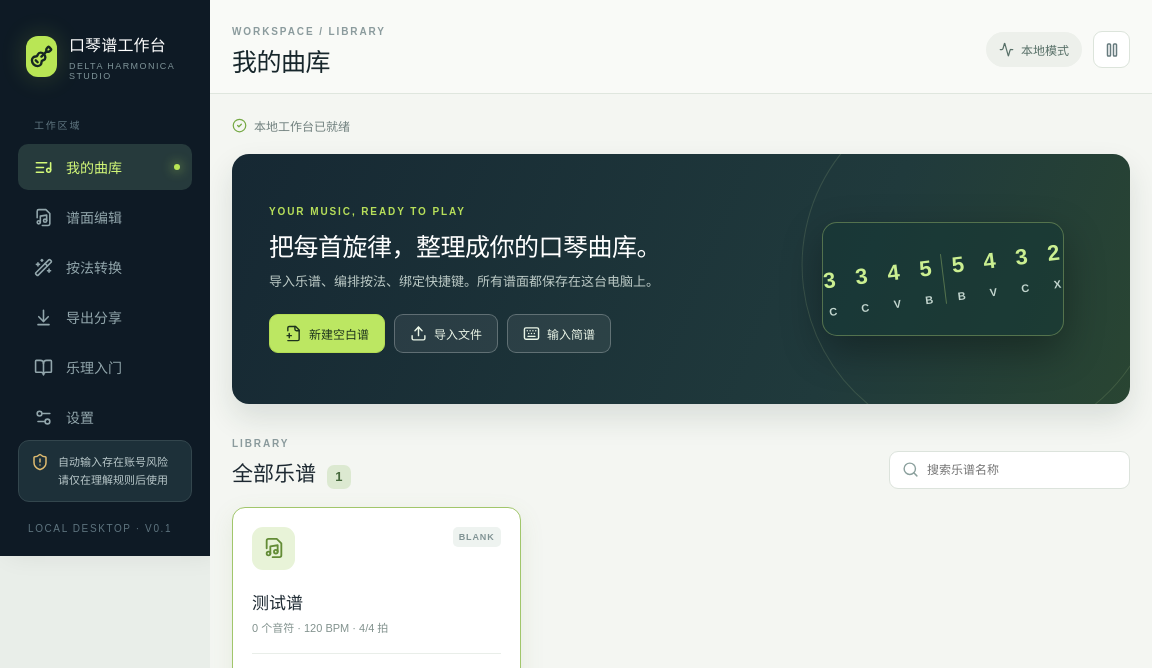
Test: manual score saving › retains edits made while an earlier save is still completing
The width and height of the screenshot is (1152, 668).
Click the button "谱面编辑": (105, 217) [18,194,192,240]
(page scrolled)
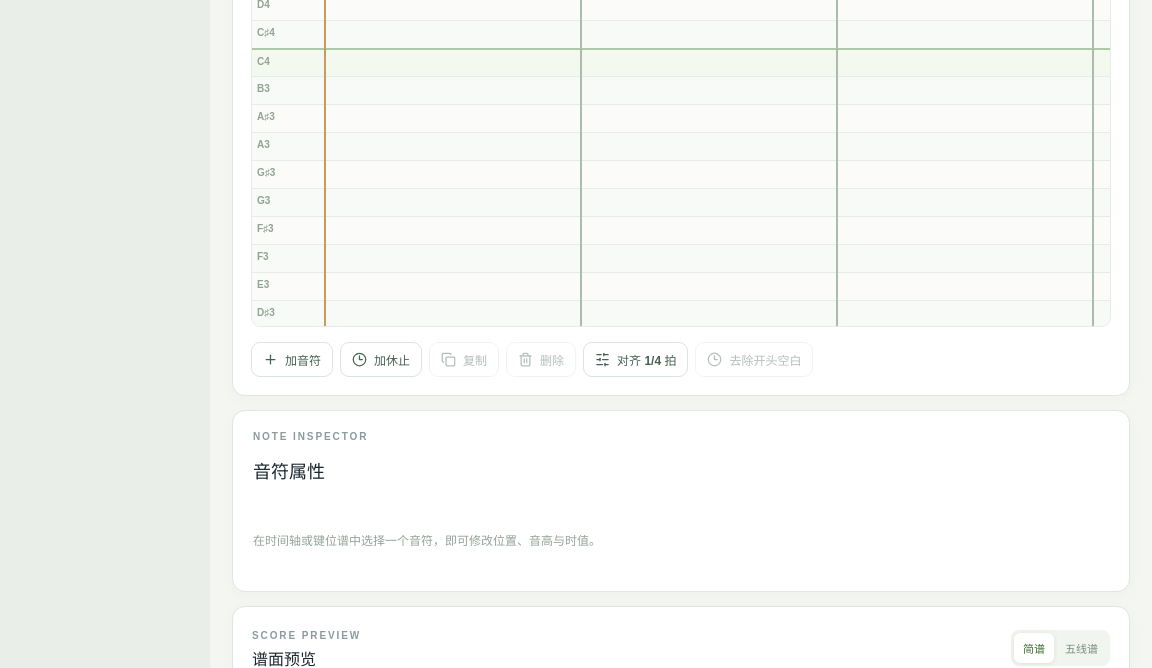
Click the button "加音符": (292, 360) [251,342,333,377]
(page scrolled)
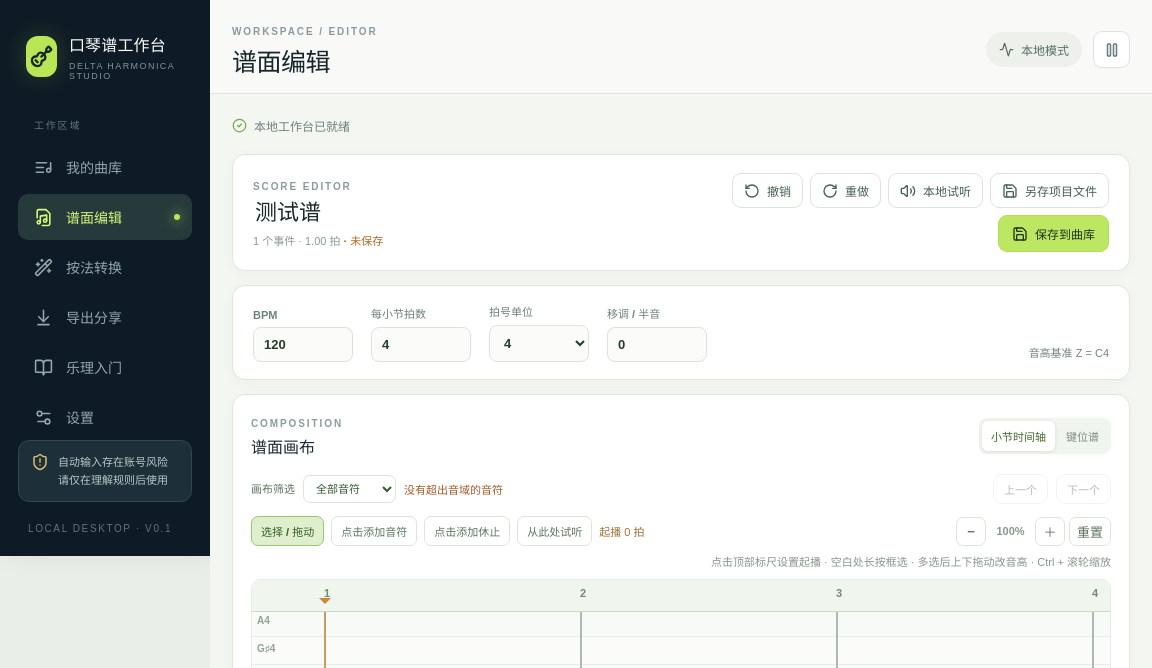
Click the button "保存到曲库": (1054, 234) [998,215,1109,252]
(page scrolled)
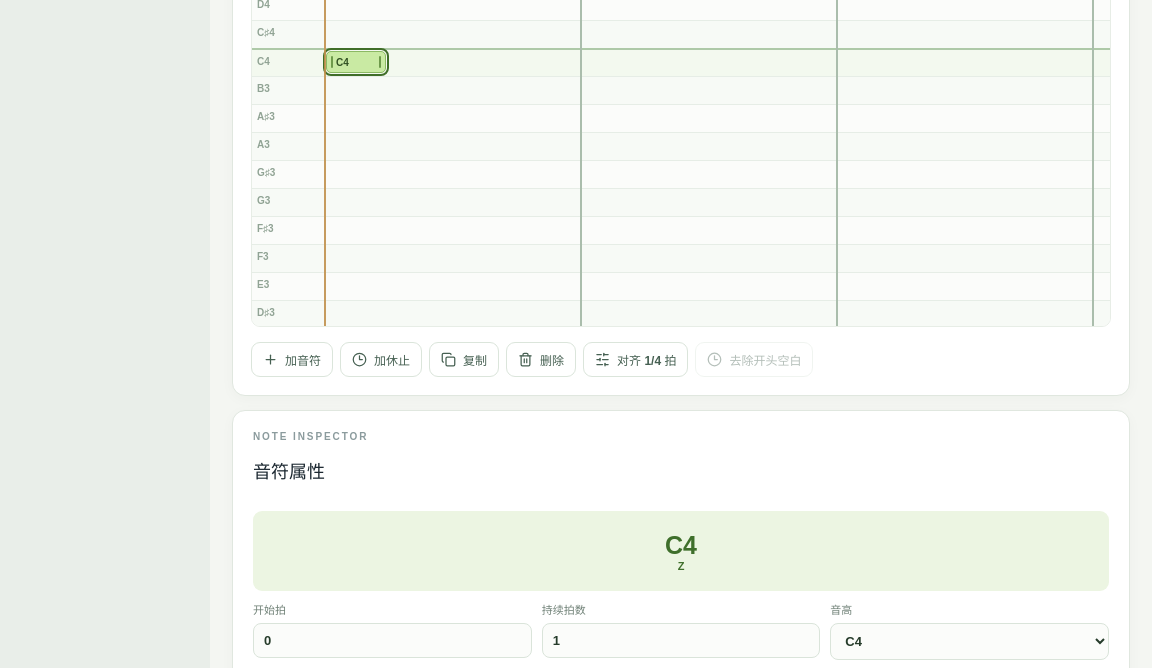
Click the button "加音符": (292, 360) [251,342,333,377]
(page scrolled)
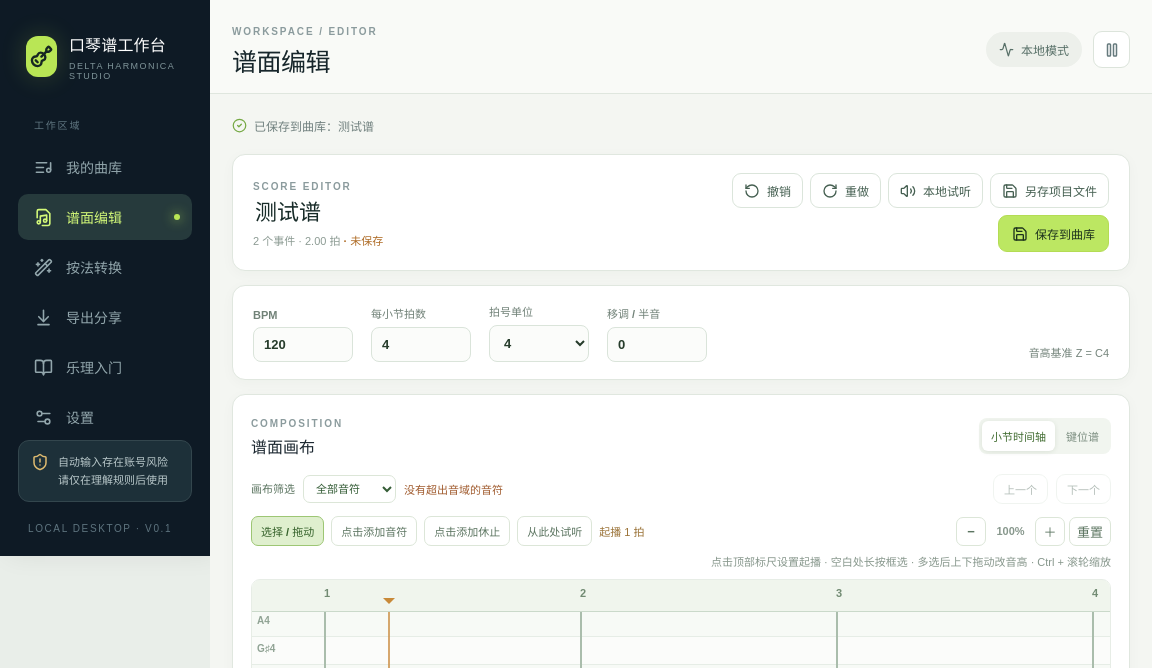
Expected: the text "未保存" is shown, [344,235,383,247]
Expected: the text "2 个事件" is shown, [253,235,383,247]
Click the button "保存到曲库": (1054, 234) [998,215,1109,252]
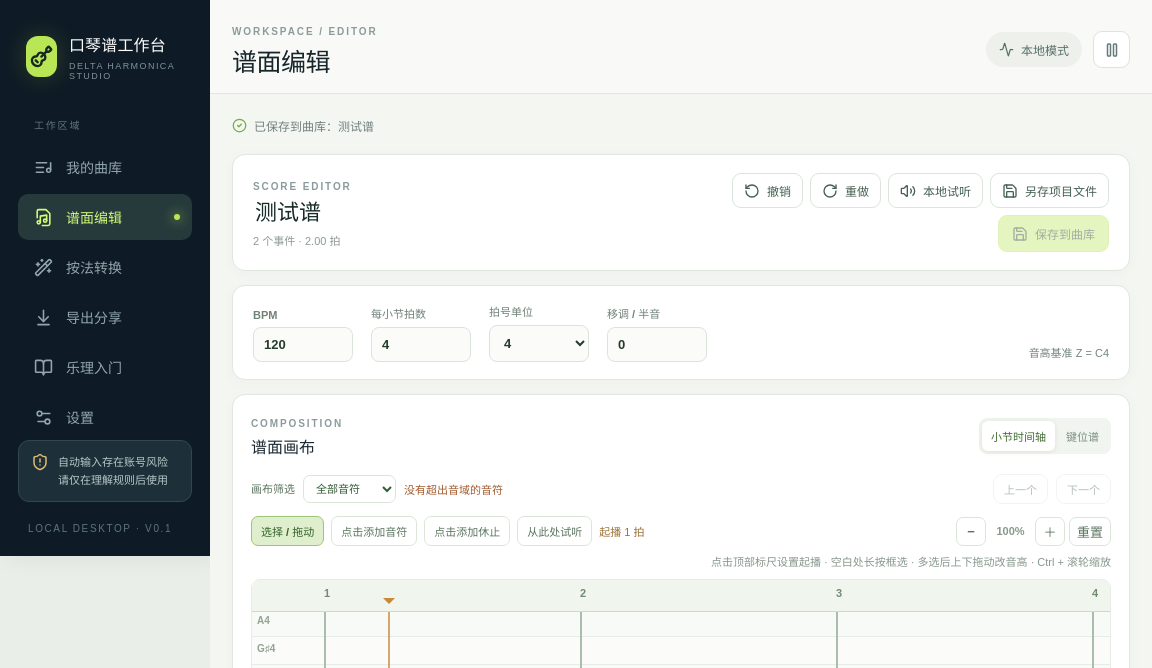
Expected: the text "未保存" is gone
